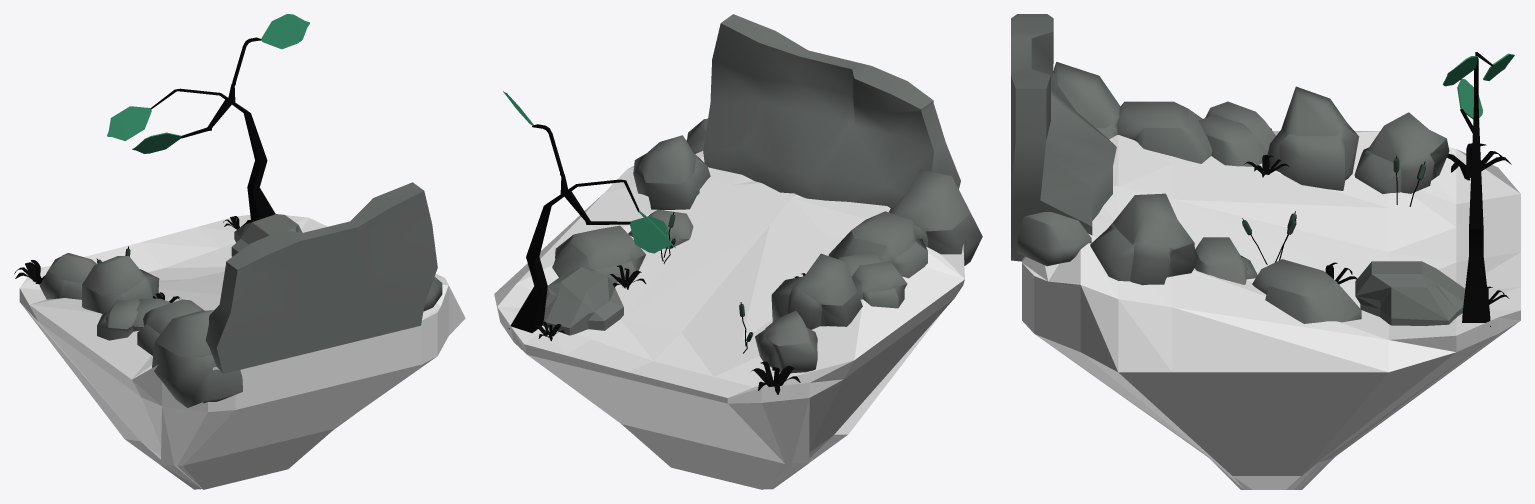
File: island fbx.fbx
The picture shows the model from 3 angles, left to right: view 1: azimuth 30°, elevation 25°; view 2: azimuth 150°, elevation 25°; view 3: azimuth 270°, elevation 25°; orthographic projection. The views are drawn at different scales.
Parts seen in each view (by area): view 1: pCube1, pCube15, pCube8, pCube2, pCube10, pCube3, pCube7, pCube4, pasted__pCube8, pCube13, pCube11, pCube12 (+1 smaller); view 2: pCube1, pCube15, pCube8, pCube2, pCube4, pCube9, pCube7, pCube5, pCube10, pCube3, pasted__pCube8, pCube12 (+1 smaller); view 3: pCube1, pCube15, pCube9, pCube2, pCube4, pCube3, pCube5, pCube7, pCube10, pCube6, pCube8, pasted__pCube6 (+3 smaller).
Boxes of the visible parts, bbox=[...] form: pCube1: bbox=[19, 215, 465, 489]; pCube15: bbox=[205, 182, 437, 373]; pCube8: bbox=[152, 310, 242, 407]; pCube2: bbox=[82, 256, 159, 313]; pCube10: bbox=[150, 37, 275, 221]; pCube3: bbox=[39, 253, 96, 299]; pCube7: bbox=[137, 299, 204, 355]; pCube4: bbox=[231, 214, 302, 256]; pasted__pCube8: bbox=[97, 300, 140, 340]; pCube13: bbox=[261, 14, 309, 49]; pCube11: bbox=[107, 106, 151, 140]; pCube12: bbox=[132, 132, 181, 153]; pCube1: bbox=[494, 151, 964, 489]; pCube15: bbox=[703, 14, 960, 208]; pCube8: bbox=[889, 169, 982, 265]; pCube2: bbox=[771, 253, 862, 329]; pCube4: bbox=[543, 267, 623, 335]; pCube9: bbox=[633, 135, 710, 210]; pCube7: bbox=[828, 211, 927, 278]; pCube5: bbox=[552, 225, 645, 283]; pCube10: bbox=[508, 124, 639, 332]; pCube3: bbox=[755, 311, 817, 373]; pasted__pCube8: bbox=[851, 261, 907, 308]; pCube12: bbox=[629, 216, 670, 253]; pCube1: bbox=[1022, 131, 1520, 489]; pCube15: bbox=[1011, 14, 1116, 261]; pCube9: bbox=[1090, 193, 1196, 285]; pCube2: bbox=[1267, 86, 1359, 190]; pCube4: bbox=[1355, 261, 1465, 325]; pCube3: bbox=[1354, 112, 1449, 193]; pCube5: bbox=[1252, 259, 1361, 323]; pCube7: bbox=[1116, 101, 1212, 163]; pCube10: bbox=[1460, 52, 1493, 326]; pCube6: bbox=[1017, 212, 1091, 266]; pCube8: bbox=[1053, 62, 1120, 139]; pasted__pCube6: bbox=[1198, 114, 1267, 166].
Bounding box in the file's own units: 17.45 × 18.51 × 17.47.
